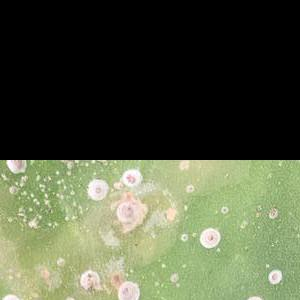Femea: (89, 182, 110, 200), (203, 231, 219, 247), (125, 173, 142, 188), (269, 270, 282, 284)
Linfa: (26, 190, 40, 205), (39, 199, 58, 210), (51, 169, 64, 185), (35, 181, 50, 194), (64, 161, 78, 174), (29, 215, 44, 224), (57, 177, 67, 189)
